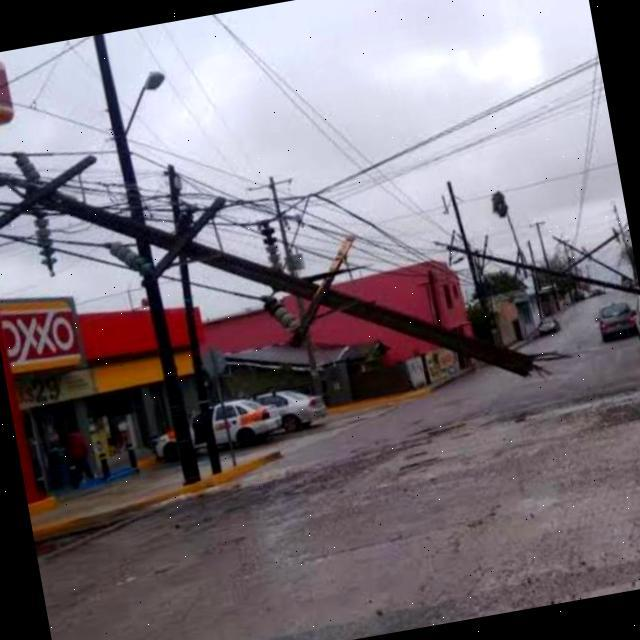Broken Pole: (0, 137, 538, 380)
